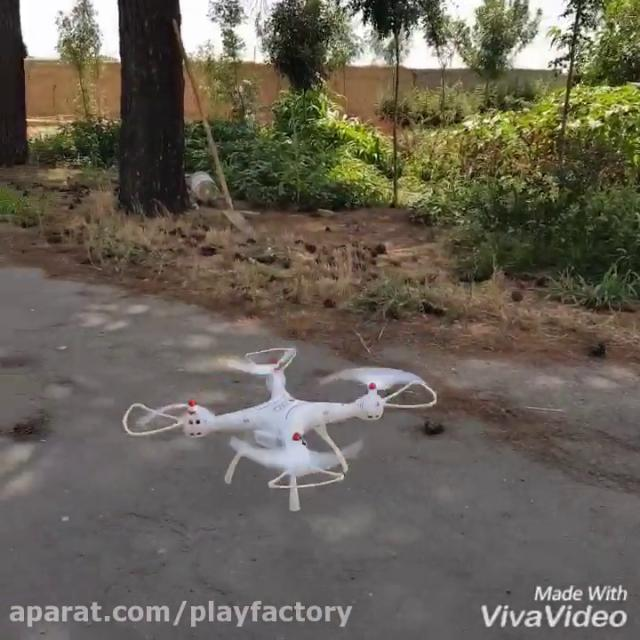drone: (121, 347, 438, 510)
